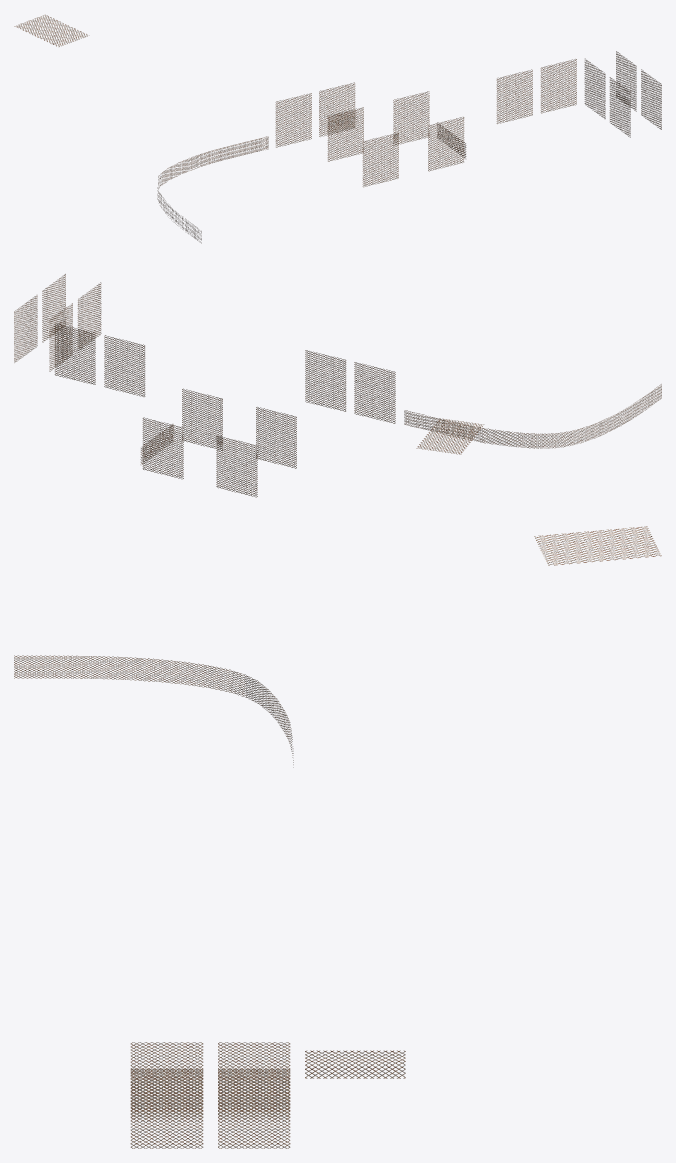
The model's file is STG08_PNW_02.obj.
3 renders of one model, top to bottom at view 1: azimuth 30°, elevation 25°; view 2: azimuth 150°, elevation 25°; view 3: azimuth 270°, elevation 25°, orthographic. The views are drawn at different scales.
Parts seen in each view (by area): view 1: Object_2; view 2: Object_2; view 3: Object_2.
Part boxes in pixels (x1,y1,x2,y2): Object_2: (14,14,661,243); Object_2: (14,274,661,497); Object_2: (14,526,661,1148).
Size of the model in its own units: 1373 by 387 by 893.
Materials: 1 (1 with a texture image).
